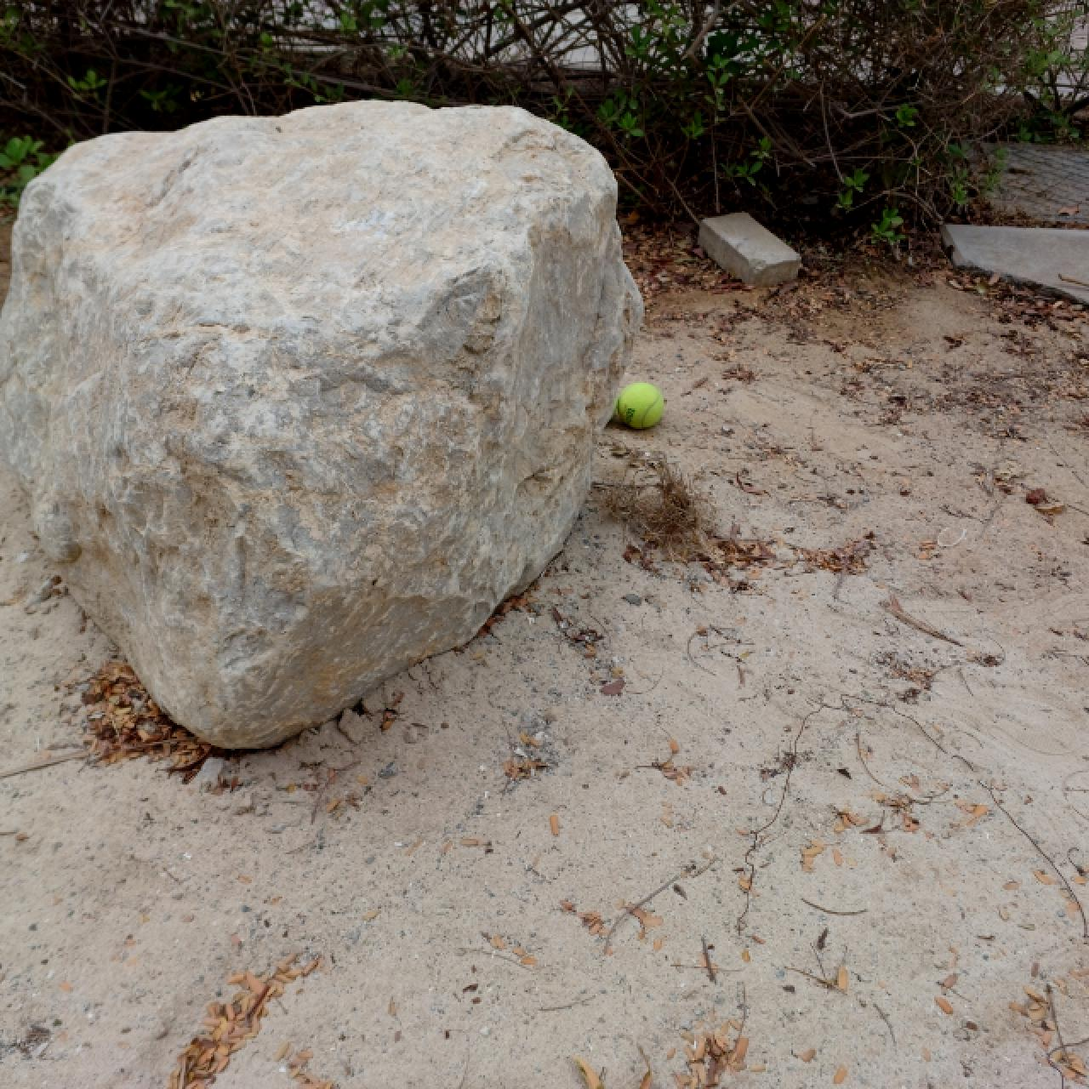tennis-ball: (614, 381, 670, 432)
